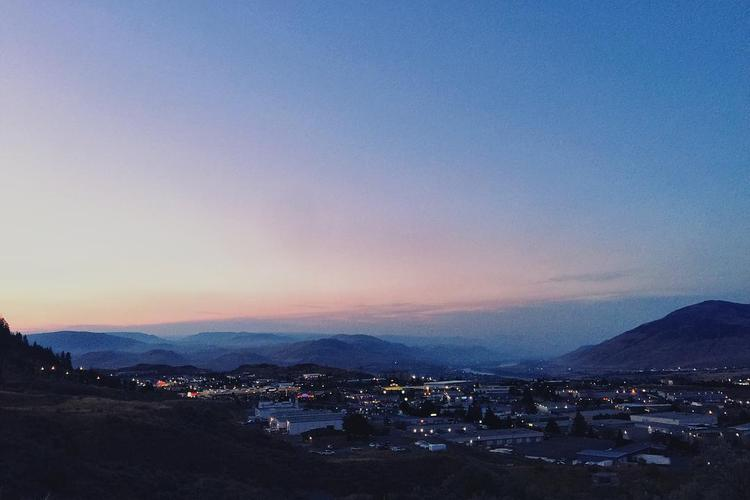sky_cloud: (23, 62, 725, 289)
